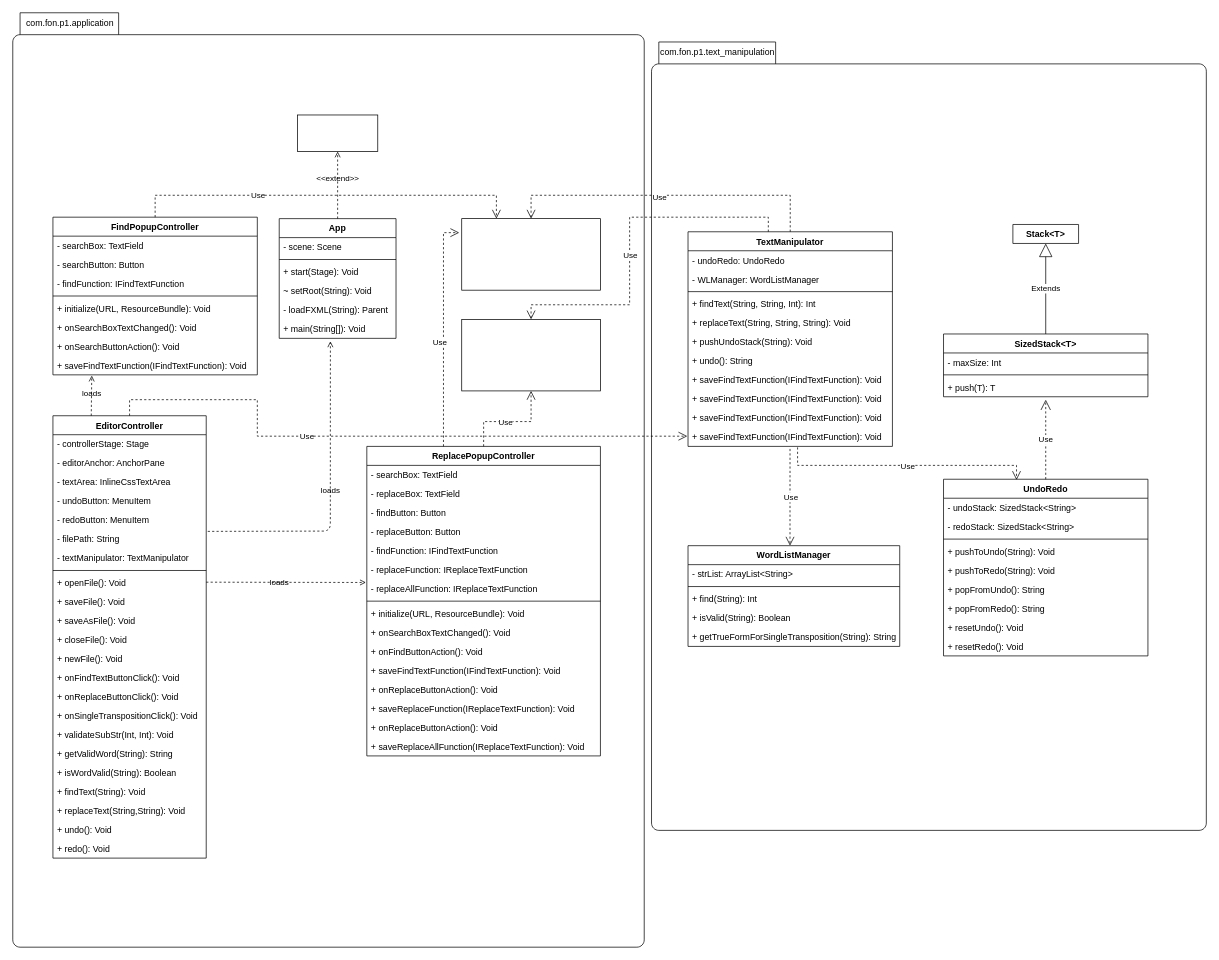
The diagram is 1219 pixels wide and 960 high, and some of its shapes have lost their labels. Each missing label, with the centre of its shape:
"<<Interface>> IFindTextFunction + operation(String): Void" belongs at point 530,254.
"<<Interface>> IReplaceTextFunction + operation(String): Void" belongs at point 530,355.
"Application" belongs at point 337,132.
